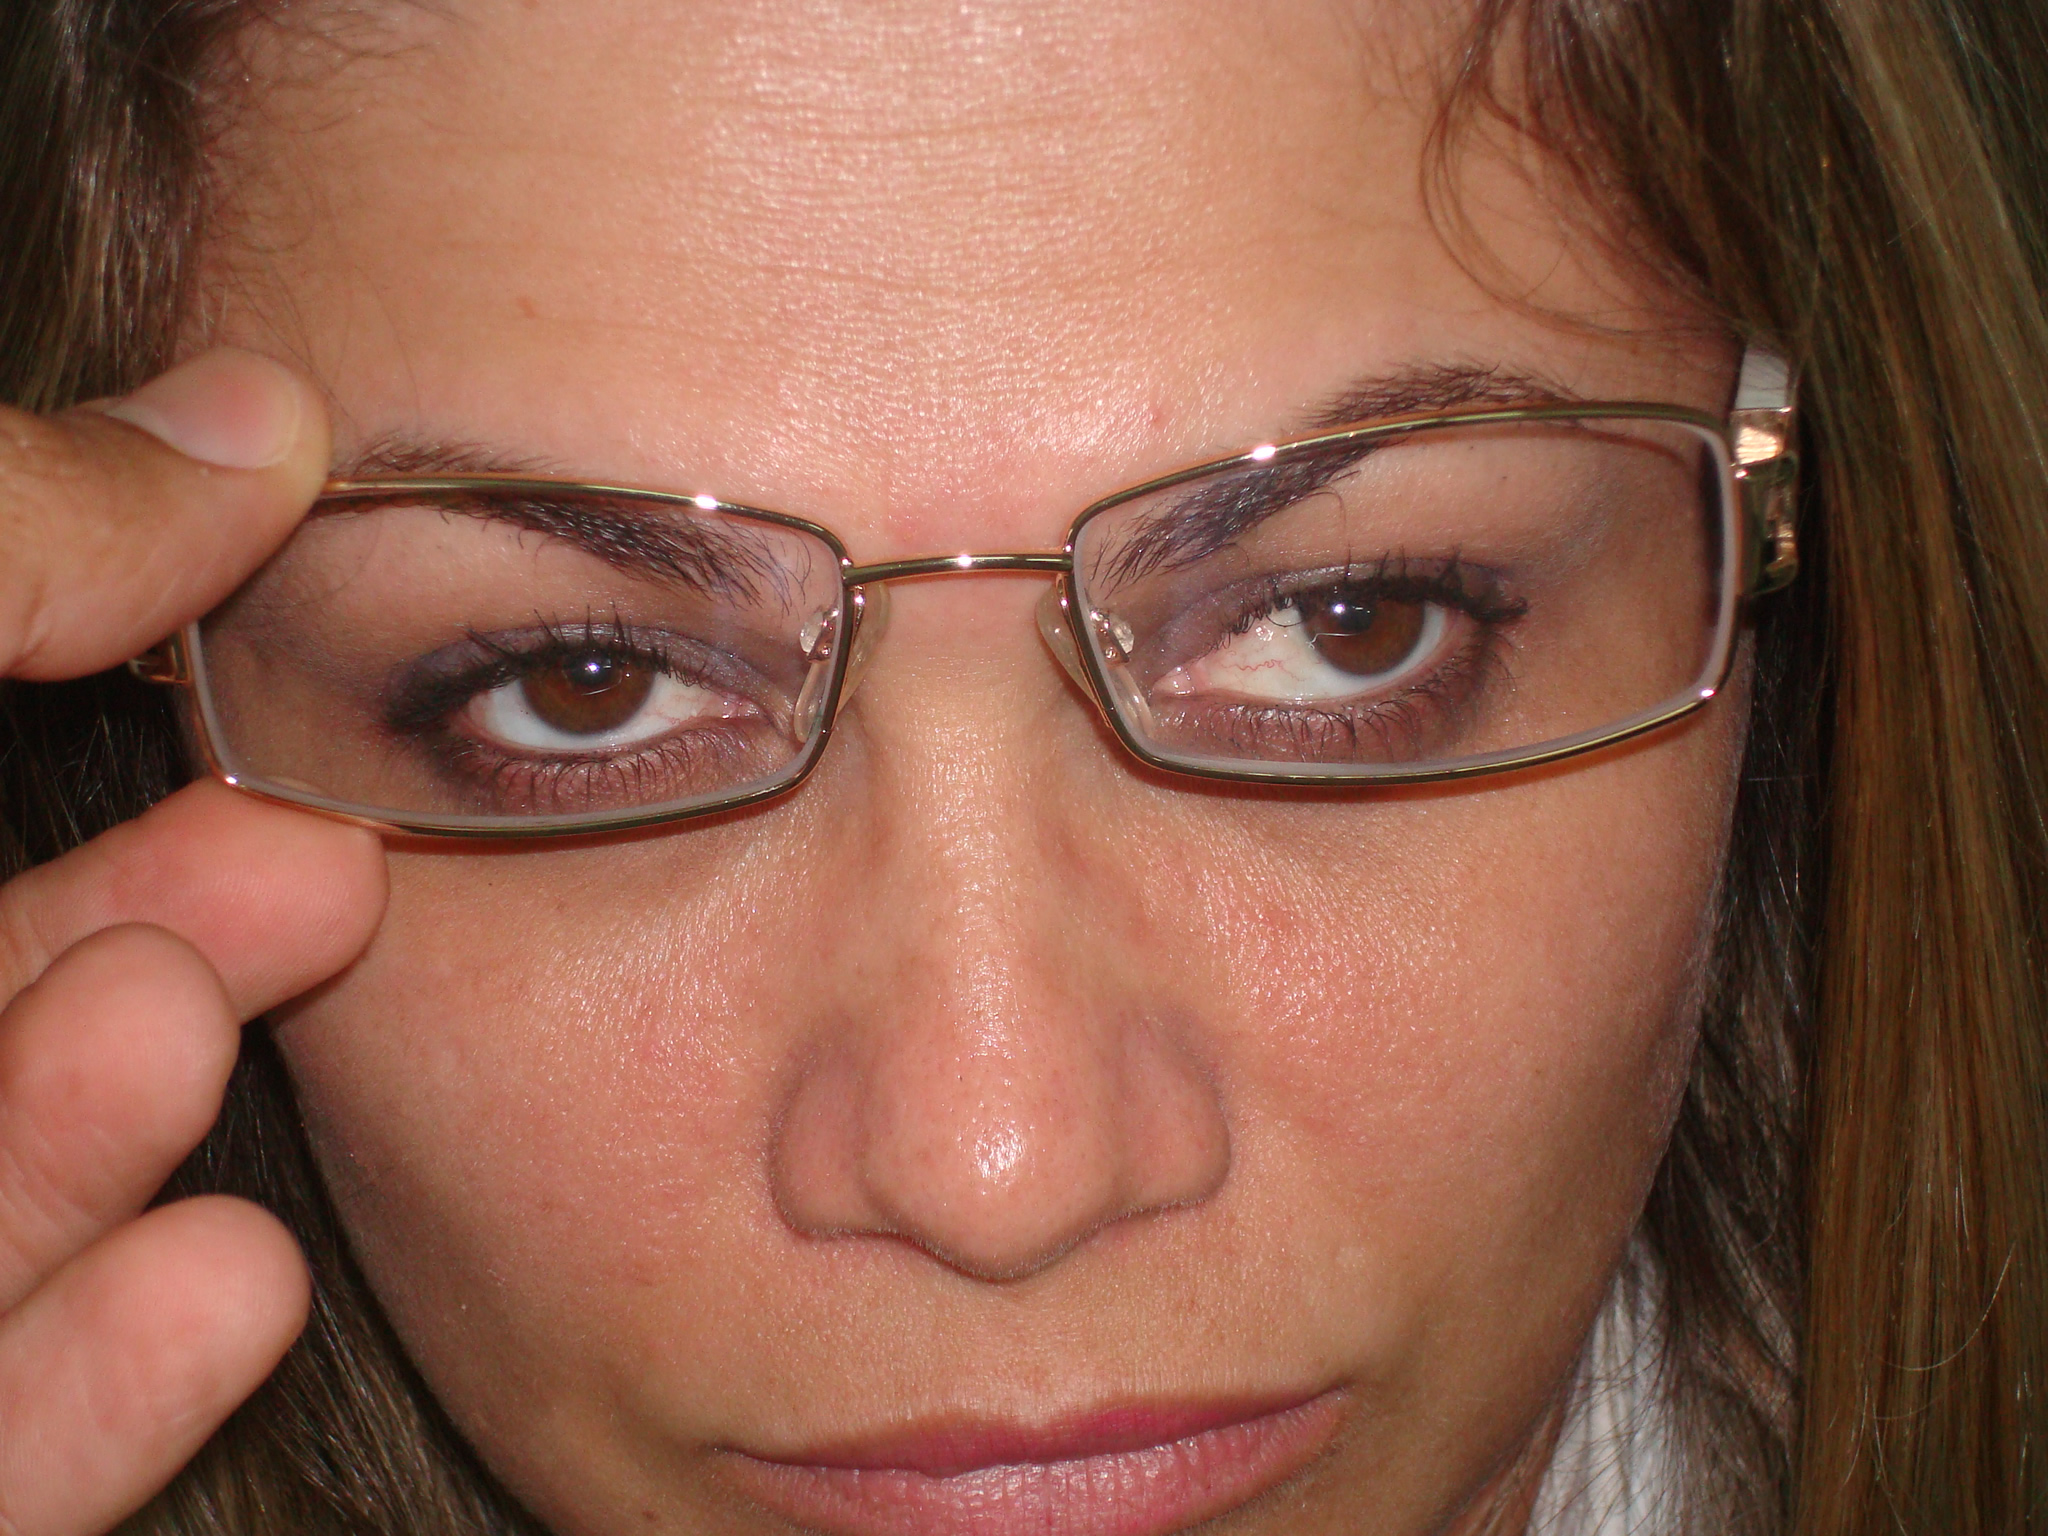flash: (1329, 599, 1348, 621), (584, 657, 603, 678)
limbo: (521, 603, 653, 726), (1295, 561, 1414, 665)
